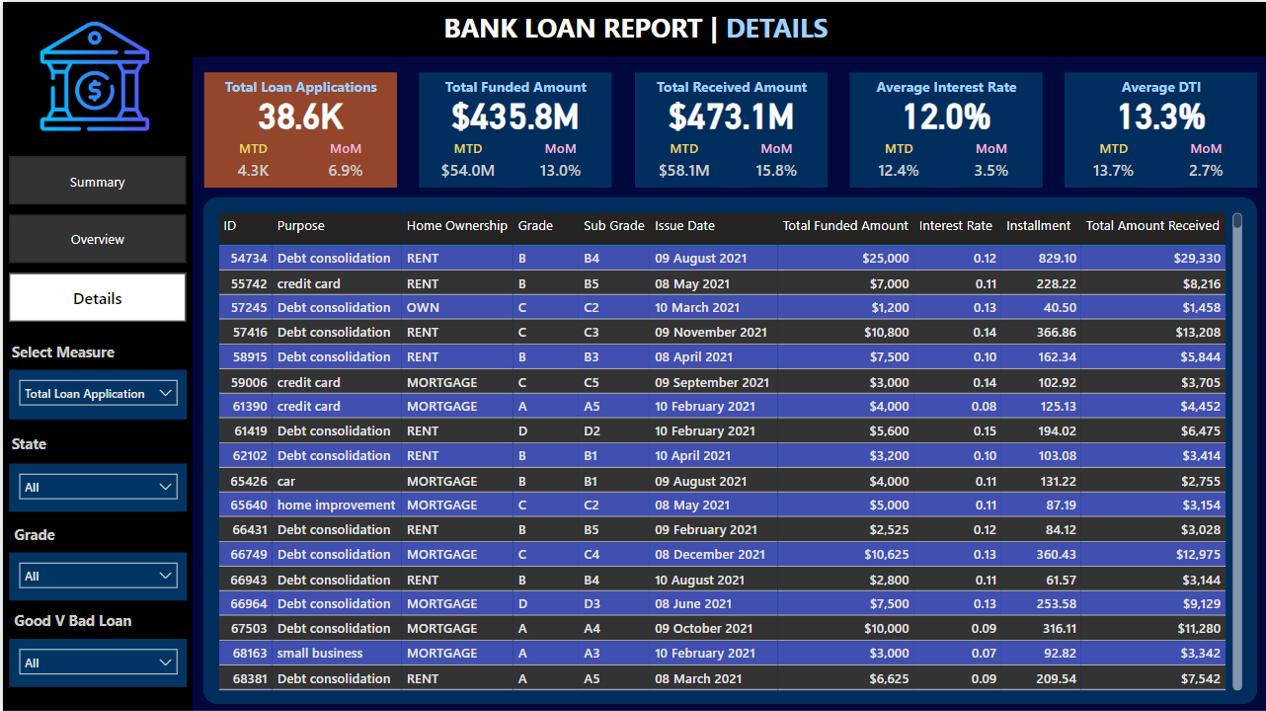

Layout of this report page (visuals, bound fields, positions):
{"tool":"powerbi","page":{"name":"Details","canvas":[1280,720],"ordinal":2},"visuals":[{"type":"shape","box":[203.9,71.2,195.4,117],"z":0,"group":"g1"},{"type":"shape","box":[421.7,71.2,195.4,117],"z":0,"group":"g2"},{"type":"shape","box":[639.4,71.2,195.4,117],"z":0,"group":"g3"},{"type":"shape","box":[857.2,71.2,195.4,117],"z":0,"group":"g4"},{"type":"shape","box":[1074.9,71.2,195.4,117],"z":0,"group":"g5"},{"type":"shape","box":[202.7,197.9,1067.7,513.9],"z":0},{"type":"shape","box":[0,0,1280,55.5],"z":1000},{"type":"card","fields":{"Values":["bank_loan bank_loan_data.Total Loan Application"]},"box":[203.9,85.7,195.4,53.1],"z":1000,"group":"g1"},{"type":"card","fields":{"Values":["bank_loan bank_loan_data.Total Funded Amount"]},"box":[421.7,85.7,195.4,53.1],"z":1000,"group":"g2"},{"type":"card","fields":{"Values":["bank_loan bank_loan_data.Total Amount Received"]},"box":[639.4,85.7,195.4,53.1],"z":1000,"group":"g3"},{"type":"card","fields":{"Values":["bank_loan bank_loan_data.Avg int rate"]},"box":[857.2,85.7,195.4,53.1],"z":1000,"group":"g4"},{"type":"card","fields":{"Values":["bank_loan bank_loan_data.Avg DTI"]},"box":[1074.9,85.7,195.4,53.1],"z":1000,"group":"g5"},{"type":"shape","box":[0,55.5,191.8,664.7],"z":2000},{"type":"textbox","box":[211.1,71.2,181,39.8],"z":2000,"group":"g1"},{"type":"textbox","box":[428.9,71.2,181,39.8],"z":2000,"group":"g2"},{"type":"textbox","box":[646.6,71.2,181,39.8],"z":2000,"group":"g3"},{"type":"textbox","box":[864.4,71.2,181,39.8],"z":2000,"group":"g4"},{"type":"textbox","box":[1082.1,71.2,181,39.8],"z":2000,"group":"g5"},{"type":"textbox","box":[441.6,2.4,409,49.5],"z":3000},{"type":"card","title":"MTD","fields":{"Values":["bank_loan bank_loan_data.MTD Loan Application"]},"box":[212.3,138.8,82,49.5],"z":3000,"group":"g1"},{"type":"card","title":"MTD","fields":{"Values":["bank_loan bank_loan_data.MTD Funded Amount"]},"box":[430.1,138.8,82,49.5],"z":3000,"group":"g2"},{"type":"card","title":"MTD","fields":{"Values":["bank_loan bank_loan_data.MTD Received Amount"]},"box":[647.8,138.8,82,49.5],"z":3000,"group":"g3"},{"type":"card","title":"MTD","fields":{"Values":["bank_loan bank_loan_data.MTD Avg int rate"]},"box":[865.6,138.8,82,49.5],"z":3000,"group":"g4"},{"type":"card","title":"MTD","fields":{"Values":["bank_loan bank_loan_data.MTD DTI"]},"box":[1083.3,138.8,82,49.5],"z":3000,"group":"g5"},{"type":"group","id":"g1","title":"Group 1","box":[203.9,71.2,195.4,117],"z":4000},{"type":"card","title":"MoM","fields":{"Values":["bank_loan bank_loan_data.MoM Loan Application"]},"box":[306.4,138.8,82,49.5],"z":4000,"group":"g1"},{"type":"card","title":"MoM","fields":{"Values":["bank_loan bank_loan_data.MoM Funded Apllication"]},"box":[524.2,138.8,82,49.5],"z":4000,"group":"g2"},{"type":"card","title":"MoM","fields":{"Values":["bank_loan bank_loan_data.MoM Received Amount"]},"box":[741.9,138.8,82,49.5],"z":4000,"group":"g3"},{"type":"card","title":"MoM","fields":{"Values":["bank_loan bank_loan_data.MoM Avg int rate"]},"box":[959.7,138.8,82,49.5],"z":4000,"group":"g4"},{"type":"card","title":"MoM","fields":{"Values":["bank_loan bank_loan_data.MoM Avg DTI"]},"box":[1177.4,138.8,82,49.5],"z":4000,"group":"g5"},{"type":"group","id":"g2","title":"Group 1","box":[421.7,71.2,195.4,117],"z":5000},{"type":"group","id":"g3","title":"Group 1","box":[639.4,71.2,195.4,117],"z":6000},{"type":"group","id":"g4","title":"Group 1","box":[857.2,71.2,195.4,117],"z":7000},{"type":"group","id":"g5","title":"Group 1","box":[1074.9,71.2,195.4,117],"z":8000},{"type":"slicer","fields":{"Values":["bank_loan bank_loan_data.address_state"]},"box":[6,467.6,180,48.6],"z":9000},{"type":"textbox","box":[3.2,431.9,90,34.3],"z":10000},{"type":"slicer","fields":{"Values":["bank_loan bank_loan_data.grade"]},"box":[6,557.8,180,48.6],"z":11000},{"type":"textbox","box":[6,523.5,90,34.3],"z":12000},{"type":"slicer","fields":{"Values":["bank_loan bank_loan_data.Good v Bad Loan"]},"box":[5.7,645.4,180,48.6],"z":13000},{"type":"textbox","box":[6,611.7,141.2,33.8],"z":14000},{"type":"slicer","fields":{"Values":["Select Measure.Select Measure"]},"box":[6,372.5,180,50],"z":15000},{"type":"textbox","box":[3.2,338.2,144.3,34.3],"z":16000},{"type":"tableEx","fields":{"Values":["bank_loan bank_loan_data.id","bank_loan bank_loan_data.purpose","bank_loan bank_loan_data.home_ownership","bank_loan bank_loan_data.grade","bank_loan bank_loan_data.sub_grade","bank_loan bank_loan_data.issue_date","bank_loan bank_loan_data.Total Funded Amount","Sum(bank_loan bank_loan_data.int_rate)","Sum(bank_loan bank_loan_data.installment)","bank_loan bank_loan_data.Total Amount Received"]},"box":[212.3,208.7,1047.2,493.4],"z":17000},{"type":"image","box":[25.3,0,136.3,150.8],"z":17001},{"type":"pageNavigator","box":[6,155.6,179.8,168.9],"z":17002}]}

Visuals, with their boxes in screenshot pixels (x1, y1, x2, y2), scaled from the page's 1280x720 canvas onto the 1266x711 screenshot:
shape: box(202, 70, 395, 186)
shape: box(417, 70, 610, 186)
shape: box(632, 70, 826, 186)
shape: box(848, 70, 1041, 186)
shape: box(1063, 70, 1256, 186)
shape: box(200, 195, 1257, 703)
shape: box(0, 0, 1265, 55)
card - bank_loan bank_loan_data.Total Loan Application: box(202, 85, 395, 137)
card - bank_loan bank_loan_data.Total Funded Amount: box(417, 85, 610, 137)
card - bank_loan bank_loan_data.Total Amount Received: box(632, 85, 826, 137)
card - bank_loan bank_loan_data.Avg int rate: box(848, 85, 1041, 137)
card - bank_loan bank_loan_data.Avg DTI: box(1063, 85, 1256, 137)
shape: box(0, 55, 190, 710)
textbox: box(209, 70, 388, 110)
textbox: box(424, 70, 603, 110)
textbox: box(640, 70, 819, 110)
textbox: box(855, 70, 1034, 110)
textbox: box(1070, 70, 1249, 110)
textbox: box(437, 2, 841, 51)
"MTD" card: box(210, 137, 291, 186)
"MTD" card: box(425, 137, 506, 186)
"MTD" card: box(641, 137, 722, 186)
"MTD" card: box(856, 137, 937, 186)
"MTD" card: box(1071, 137, 1153, 186)
"Group 1" group: box(202, 70, 395, 186)
"MoM" card: box(303, 137, 384, 186)
"MoM" card: box(518, 137, 600, 186)
"MoM" card: box(734, 137, 815, 186)
"MoM" card: box(949, 137, 1030, 186)
"MoM" card: box(1165, 137, 1246, 186)
"Group 1" group: box(417, 70, 610, 186)
"Group 1" group: box(632, 70, 826, 186)
"Group 1" group: box(848, 70, 1041, 186)
"Group 1" group: box(1063, 70, 1256, 186)
slicer - bank_loan bank_loan_data.address_state: box(6, 462, 184, 510)
textbox: box(3, 427, 92, 460)
slicer - bank_loan bank_loan_data.grade: box(6, 551, 184, 599)
textbox: box(6, 517, 95, 551)
slicer - bank_loan bank_loan_data.Good v Bad Loan: box(6, 637, 184, 685)
textbox: box(6, 604, 146, 637)
slicer - Select Measure.Select Measure: box(6, 368, 184, 417)
textbox: box(3, 334, 146, 368)
tableEx - bank_loan bank_loan_data.id x bank_loan bank_loan_data.purpose: box(210, 206, 1246, 693)
image: box(25, 0, 160, 149)
pageNavigator: box(6, 154, 184, 320)
